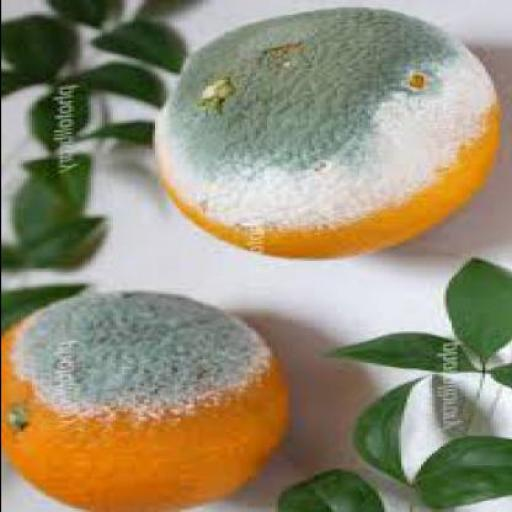biodegradable: (146, 8, 498, 257), (1, 288, 288, 511), (350, 372, 428, 488), (408, 434, 510, 510), (442, 256, 509, 358), (314, 331, 481, 371), (11, 154, 84, 240), (1, 15, 65, 97), (53, 62, 162, 108), (87, 19, 176, 71), (274, 469, 383, 511), (26, 80, 84, 153), (19, 216, 98, 266), (0, 283, 79, 320), (73, 118, 149, 147), (45, 0, 106, 28), (484, 358, 509, 384), (1, 242, 20, 268)
